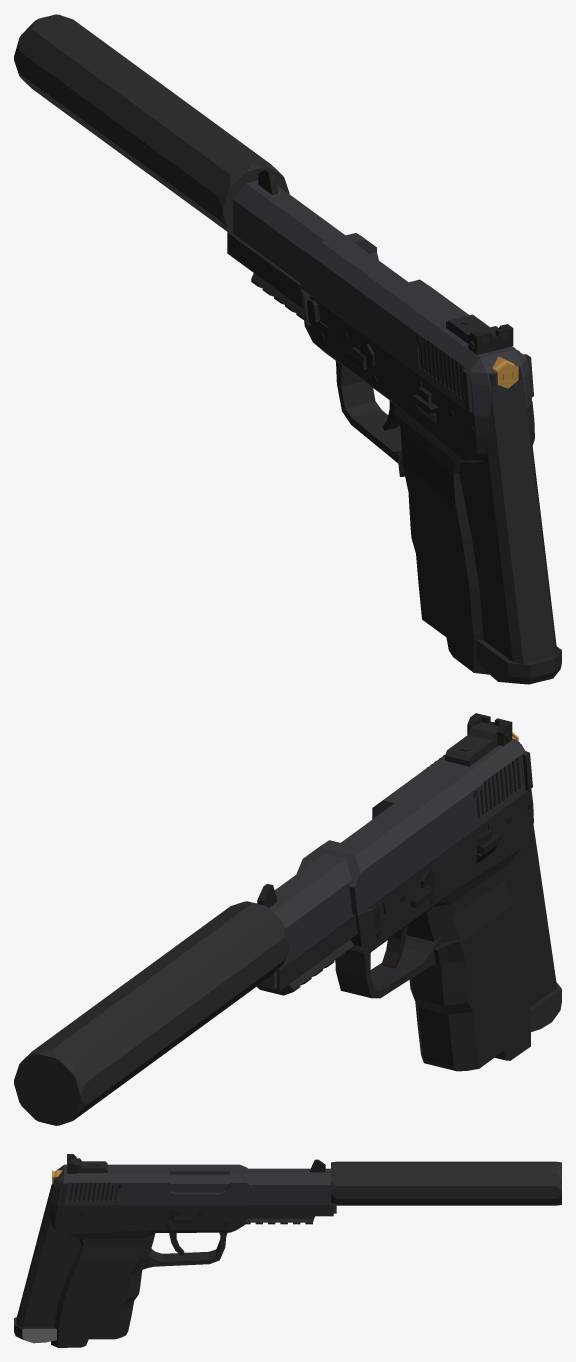
File: pistol_ct.glb
3 renders of one model, top to bottom at view 1: azimuth 30°, elevation 25°; view 2: azimuth 150°, elevation 25°; view 3: azimuth 270°, elevation 25°, orthographic. The views are drawn at different scales.
Visible parts, largest first — view 1: pistol_ct, pistol_ct_suppressor, pistol_ct_mag; view 2: pistol_ct, pistol_ct_suppressor, pistol_ct_mag; view 3: pistol_ct, pistol_ct_suppressor, pistol_ct_mag.
Part boxes in pixels (<box>): pistol_ct: <box>227,168,534,674</box>; pistol_ct_suppressor: <box>14,14,289,232</box>; pistol_ct_mag: <box>459,366,561,684</box>; pistol_ct: <box>256,713,533,1071</box>; pistol_ct_suppressor: <box>14,901,289,1125</box>; pistol_ct_mag: <box>505,742,561,1031</box>; pistol_ct: <box>48,1154,336,1347</box>; pistol_ct_suppressor: <box>331,1161,561,1205</box>; pistol_ct_mag: <box>14,1178,80,1343</box>.
Size of the model in its own units: 0.0317 by 0.1384 by 0.3794.
Materials: 1 (1 with a texture image).
